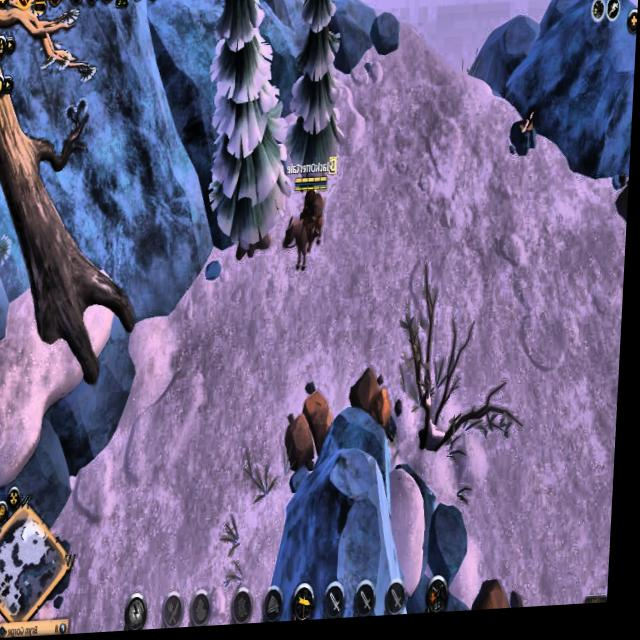copperore: (509, 111, 543, 163)
limestone: (288, 392, 340, 476), (352, 367, 402, 443), (474, 576, 535, 617), (612, 178, 632, 241)
